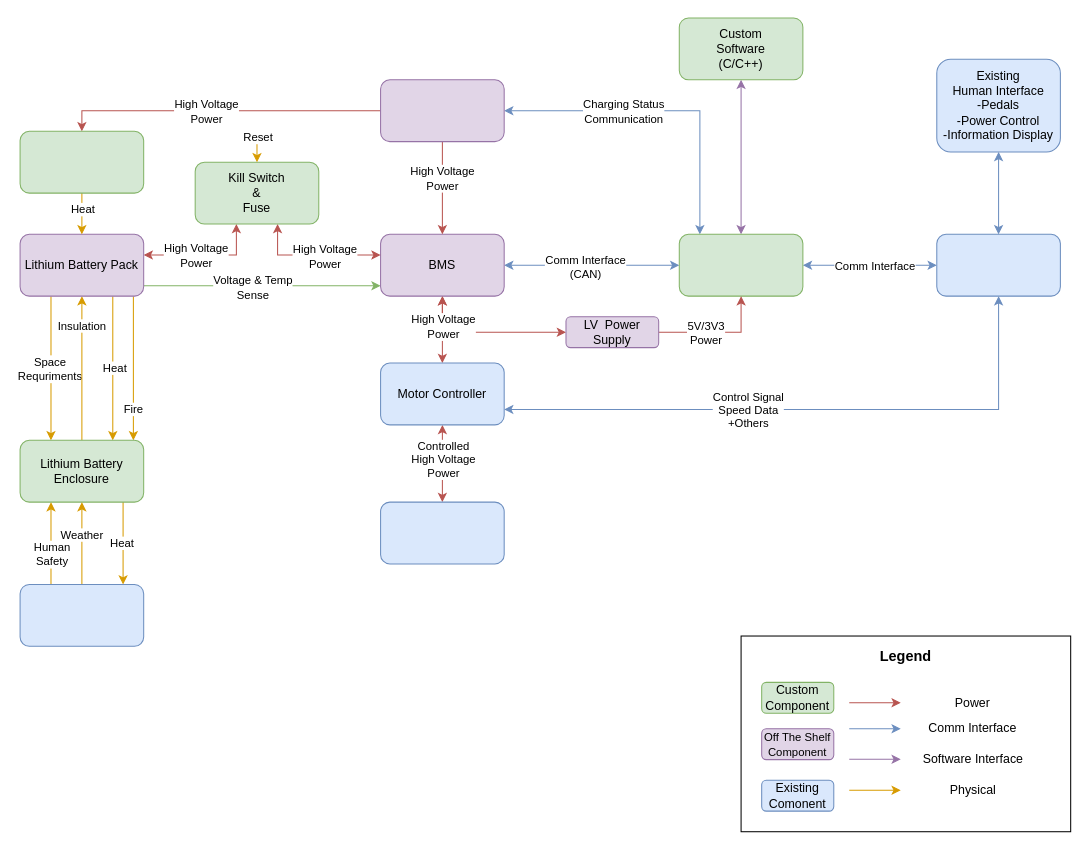
Image size: 1089x850. Some labels were removed from this diagram. The shapes that lost their labels are listed below. From the top down, each one's box as (x1, y1, x2, y2) in pixels, then its label:
(380, 79, 504, 142): Internal Charger
(19, 130, 144, 193): PTC Heater
(678, 233, 803, 296): Communication Interface (Embedded System)
(936, 233, 1060, 296): Golf Cart Existing ECU [Vehicle Controller]
(380, 501, 504, 564): Motor(s)
(19, 583, 144, 646): The Enviroment
